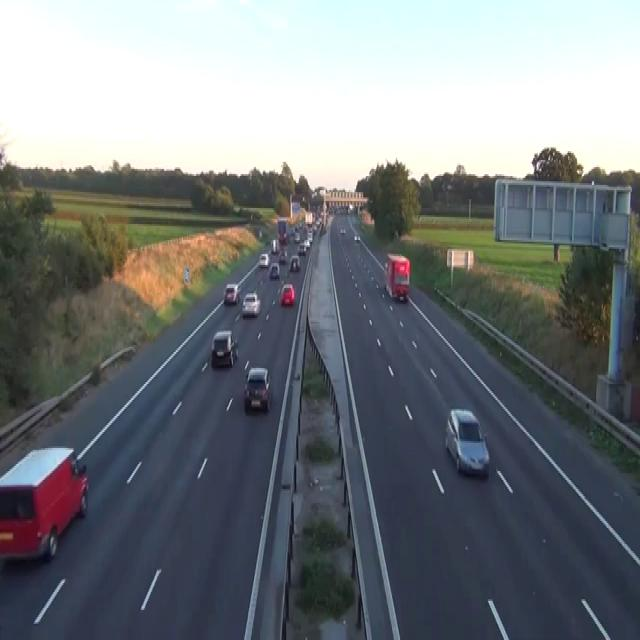Car: (0, 444, 89, 564), (444, 407, 489, 477), (243, 367, 271, 412), (211, 329, 238, 368), (241, 292, 260, 316), (279, 282, 295, 306), (223, 283, 240, 304), (289, 254, 300, 272), (269, 261, 279, 279), (258, 252, 269, 266), (278, 249, 287, 263), (297, 242, 306, 254), (280, 231, 288, 244), (293, 231, 300, 242), (303, 238, 310, 249), (307, 231, 313, 242), (353, 233, 360, 242), (288, 228, 295, 236), (320, 224, 326, 233), (393, 228, 398, 238), (340, 226, 345, 234), (258, 228, 262, 238), (348, 202, 353, 210)
Truck: (384, 252, 410, 302), (277, 218, 288, 244)
